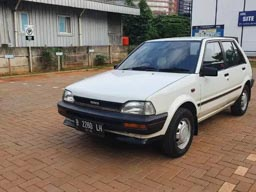plat: (73, 117, 104, 136)
